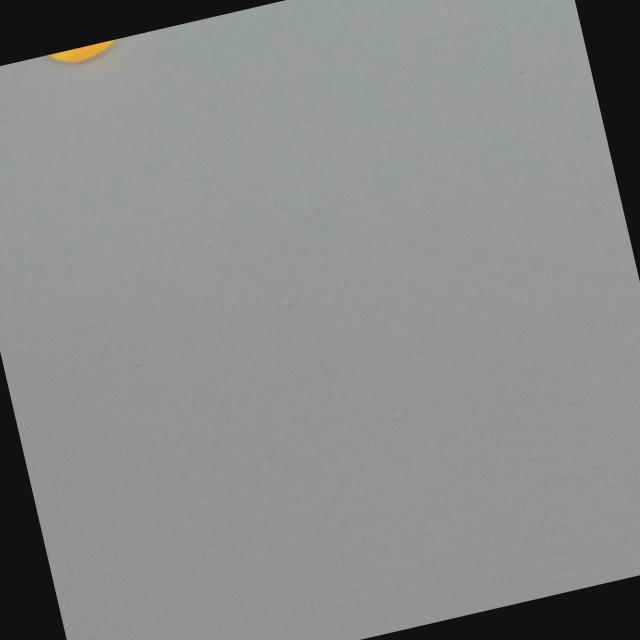no_canjicado: (35, 36, 134, 77)
